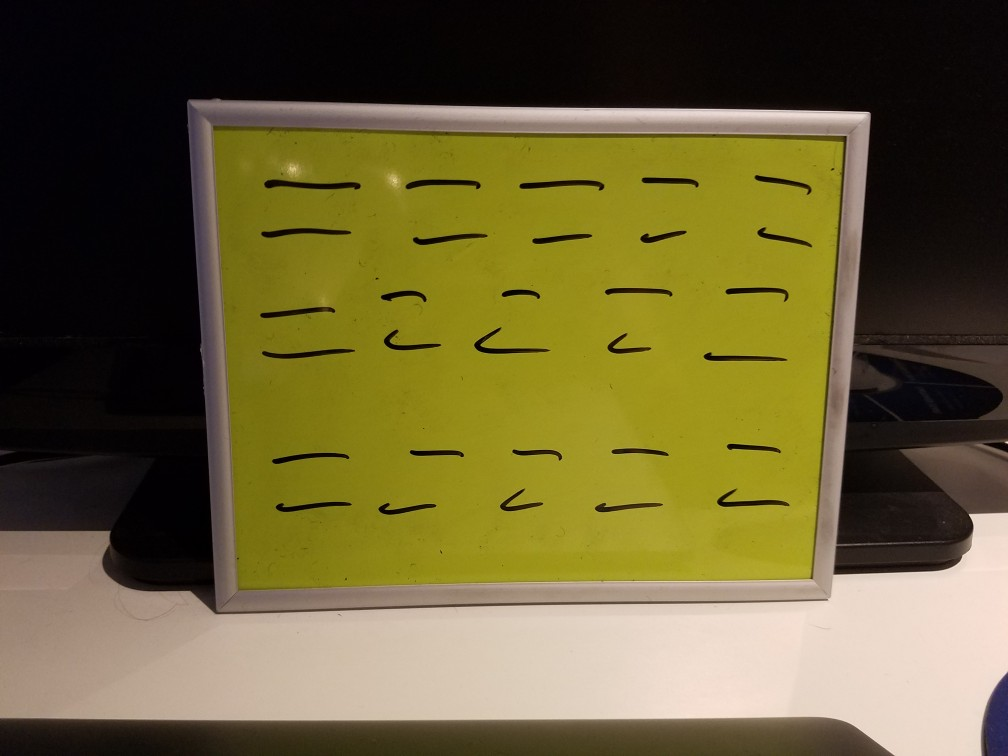=: (695, 269, 803, 382), (241, 162, 366, 250), (735, 159, 832, 265), (373, 436, 477, 533), (264, 434, 363, 535), (465, 280, 560, 380), (587, 433, 686, 528), (704, 429, 798, 529), (618, 162, 715, 258), (392, 168, 493, 257), (239, 299, 364, 366), (588, 276, 677, 369), (510, 168, 606, 252), (487, 430, 566, 529), (371, 281, 445, 363)
